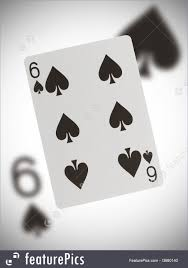six of spades: (23, 34, 164, 209)
